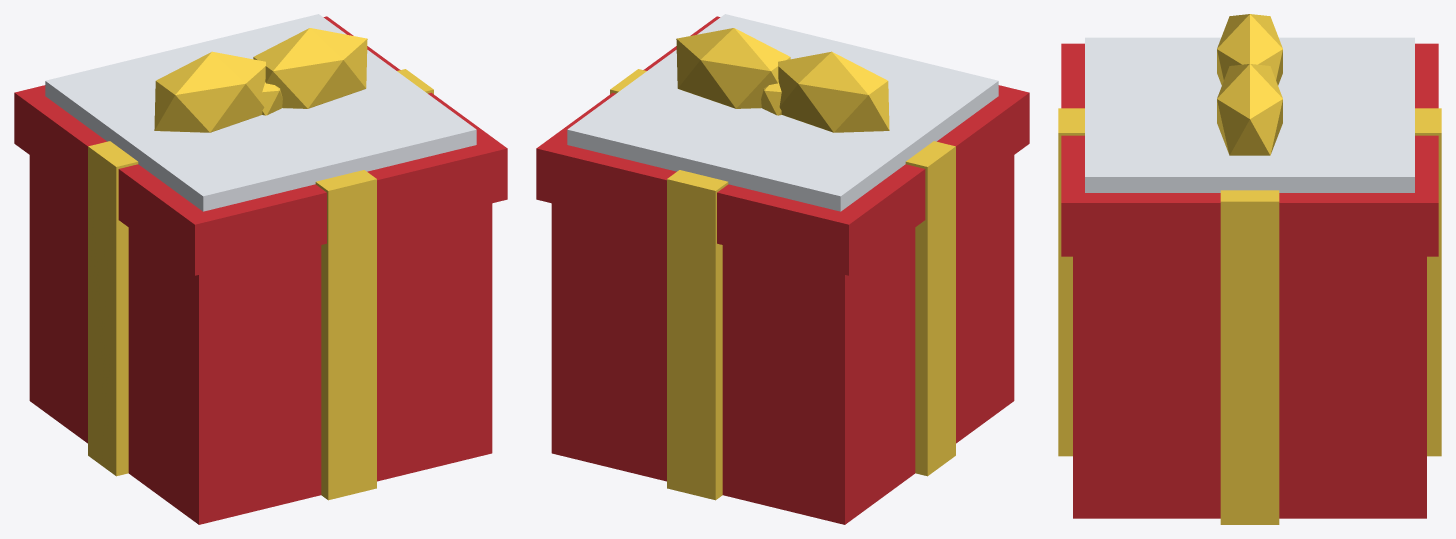
Rendered from GiftBox.fbx.
3 renders of one model, left to right at view 1: azimuth 30°, elevation 25°; view 2: azimuth 150°, elevation 25°; view 3: azimuth 270°, elevation 25°, orthographic. The views are drawn at different scales.
Parts seen in each view (by area): view 1: GiftBox_Red, GiftBox_Gold, GiftBox_Snow; view 2: GiftBox_Red, GiftBox_Gold, GiftBox_Snow; view 3: GiftBox_Red, GiftBox_Snow, GiftBox_Gold.
Part boxes in pixels (bbox=[...]): GiftBox_Red: bbox=[14, 16, 507, 524]; GiftBox_Gold: bbox=[88, 28, 433, 500]; GiftBox_Snow: bbox=[45, 14, 476, 211]; GiftBox_Red: bbox=[536, 16, 1029, 524]; GiftBox_Gold: bbox=[610, 28, 955, 500]; GiftBox_Snow: bbox=[567, 14, 998, 211]; GiftBox_Red: bbox=[1061, 43, 1438, 518]; GiftBox_Snow: bbox=[1085, 37, 1414, 192]; GiftBox_Gold: bbox=[1058, 14, 1441, 524].
Bounding box in the file's own units: 650 × 758 × 650.
